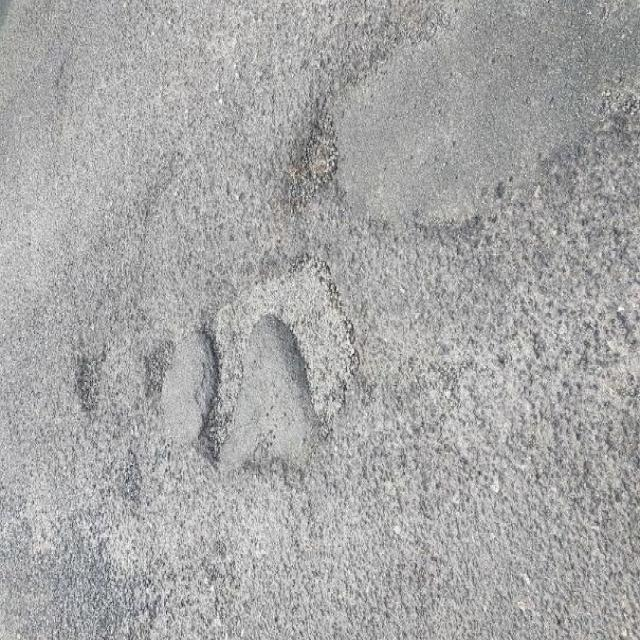Pothole: (193, 241, 376, 468)
